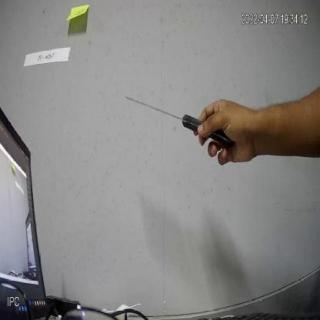knife: (123, 84, 241, 148)
